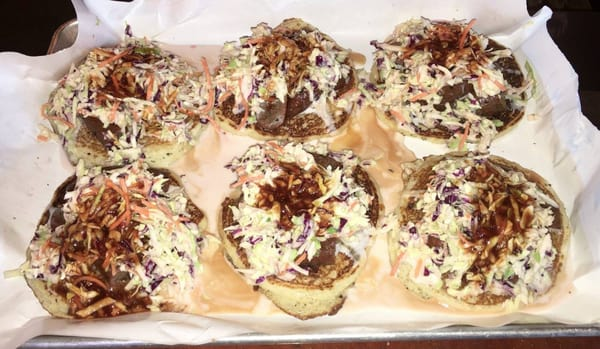sandwich: (11, 12, 582, 326), (391, 151, 573, 315)
